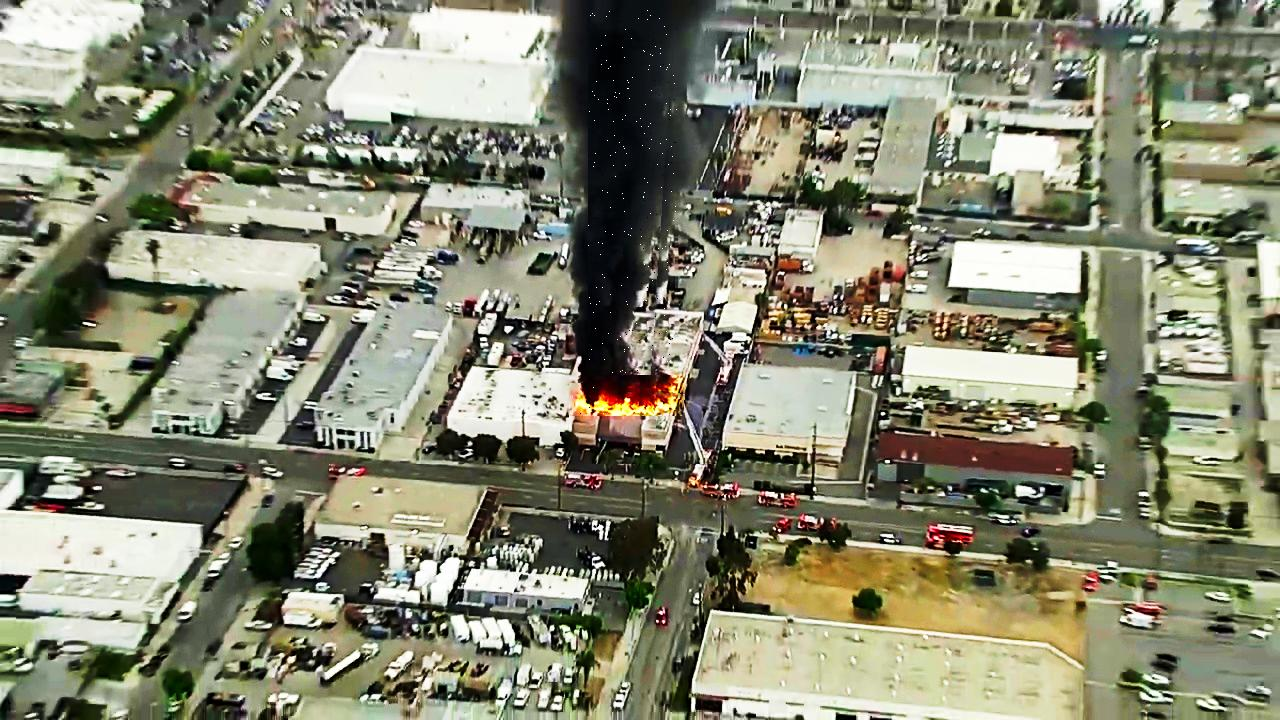fire: (569, 384, 685, 419)
smoke: (589, 10, 678, 375)
